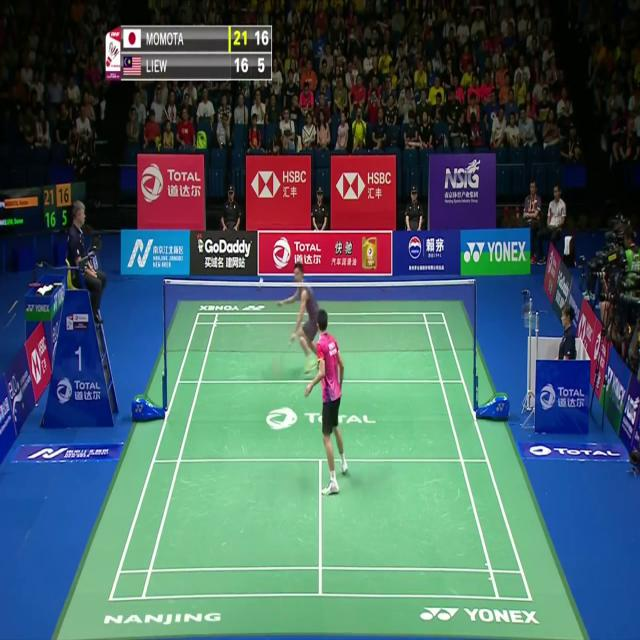Shuttlecock: (258, 275, 265, 287)
